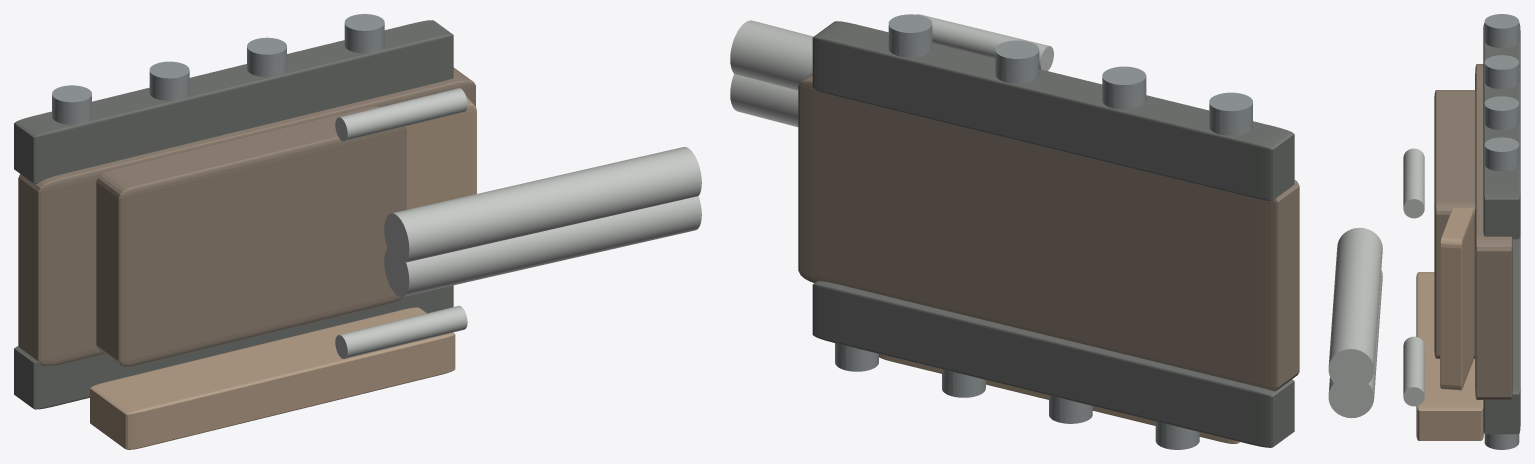
File: d-u20-dominion-super-heavy-lod2.glb
The picture shows the model from 3 angles, left to right: view 1: azimuth 30°, elevation 25°; view 2: azimuth 150°, elevation 25°; view 3: azimuth 270°, elevation 25°; orthographic projection. The views are drawn at different scales.
Parts seen in each view (by area): view 1: upper_hull, chassis_track_1, armor_belt_-1, chassis_lower, superheavy_main_barrel_1, superheavy_main_barrel_0, chassis_track_-1, chassis_glacis, sponson_-1_barrel_0, sponson_1_barrel_0, chassis_roadwheel_1_2, chassis_roadwheel_1_6 (+2 smaller); view 2: chassis_lower, chassis_track_1, chassis_track_-1, superheavy_main_barrel_1, superheavy_main_barrel_0, sponson_1_barrel_0, chassis_roadwheel_1_4, chassis_roadwheel_1_2, chassis_roadwheel_1_6, chassis_roadwheel_1_0, armor_belt_-1, chassis_roadwheel_-1_1 (+3 smaller); view 3: chassis_lower, superheavy_main_barrel_1, upper_hull, chassis_glacis, armor_belt_-1, chassis_track_1, chassis_track_-1, superheavy_main_barrel_0, sponson_-1_barrel_0, sponson_1_barrel_0, chassis_roadwheel_1_6, chassis_roadwheel_1_4 (+3 smaller).
Part boxes in pixels (x1,y1,x2,y2): upper_hull: [96, 106, 406, 366]; chassis_track_1: [14, 20, 453, 183]; armor_belt_-1: [90, 307, 455, 449]; chassis_lower: [18, 67, 475, 365]; superheavy_main_barrel_1: [384, 147, 701, 264]; superheavy_main_barrel_0: [384, 196, 701, 297]; chassis_track_-1: [14, 285, 453, 409]; chassis_glacis: [406, 96, 476, 209]; sponson_-1_barrel_0: [335, 305, 467, 358]; sponson_1_barrel_0: [335, 88, 467, 141]; chassis_roadwheel_1_2: [149, 61, 189, 100]; chassis_roadwheel_1_6: [344, 14, 384, 53]; chassis_lower: [798, 73, 1299, 391]; chassis_track_1: [812, 21, 1294, 200]; chassis_track_-1: [812, 281, 1294, 447]; superheavy_main_barrel_1: [730, 20, 813, 90]; superheavy_main_barrel_0: [730, 74, 798, 127]; sponson_1_barrel_0: [917, 14, 1053, 70]; chassis_roadwheel_1_4: [995, 40, 1039, 83]; chassis_roadwheel_1_2: [1102, 66, 1146, 109]; chassis_roadwheel_1_6: [888, 14, 932, 57]; chassis_roadwheel_1_0: [1209, 92, 1252, 135]; armor_belt_-1: [879, 354, 1239, 443]; chassis_roadwheel_-1_1: [1155, 421, 1199, 449]; chassis_lower: [1475, 64, 1512, 399]; superheavy_main_barrel_1: [1328, 227, 1382, 389]; upper_hull: [1434, 90, 1475, 358]; chassis_glacis: [1440, 208, 1473, 390]; armor_belt_-1: [1416, 272, 1483, 440]; chassis_track_1: [1483, 23, 1520, 239]; chassis_track_-1: [1483, 232, 1520, 434]; superheavy_main_barrel_0: [1328, 270, 1382, 418]; sponson_-1_barrel_0: [1403, 336, 1424, 406]; sponson_1_barrel_0: [1403, 148, 1424, 218]; chassis_roadwheel_1_6: [1484, 137, 1519, 171]; chassis_roadwheel_1_4: [1484, 96, 1519, 130].
Size of what is drawn, in the model's own units: 12.88 by 6.88 by 4.28.
